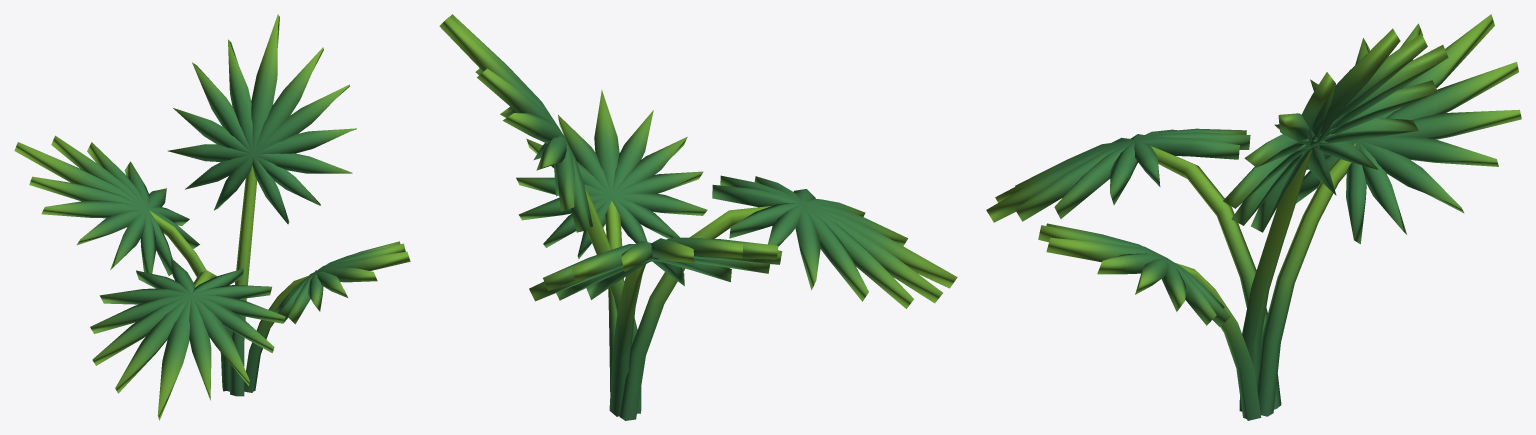
File: Plants_034.fbx
3 renders of one model, left to right at view 1: azimuth 30°, elevation 25°; view 2: azimuth 150°, elevation 25°; view 3: azimuth 270°, elevation 25°, orthographic. The views are drawn at different scales.
Parts seen in each view (by area): view 1: Plants.034; view 2: Plants.034; view 3: Plants.034.
Part boxes in pixels (<box>): Plants.034: <box>14,14,410,420</box>; Plants.034: <box>439,14,957,420</box>; Plants.034: <box>986,14,1521,420</box>.
Size of the model in its own units: 921 by 917 by 1005.
